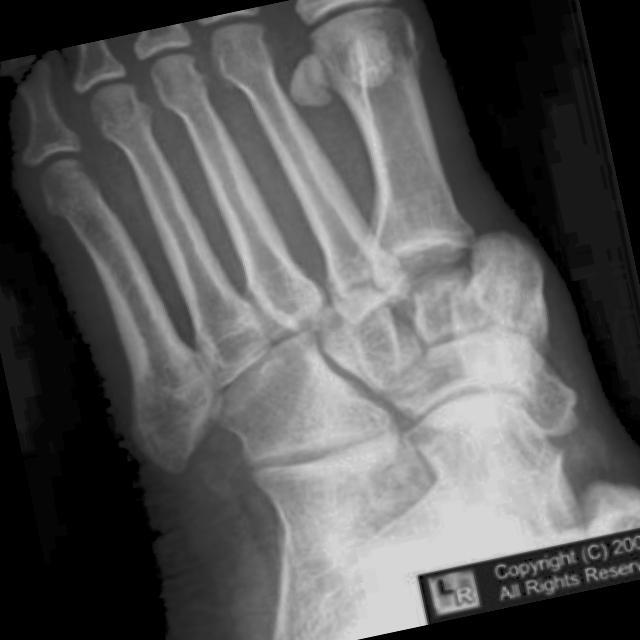Fracture Dislocation: (132, 372, 248, 467), (320, 273, 413, 349)
